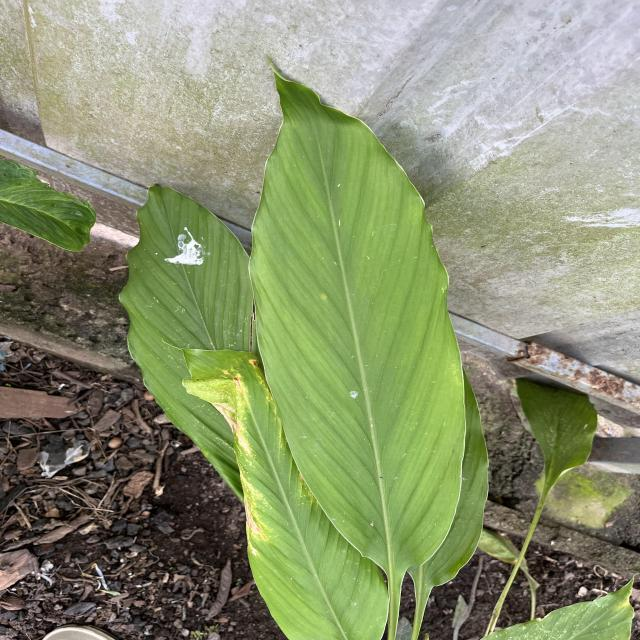Curcuma longa: (246, 49, 469, 588), (114, 180, 250, 502)
